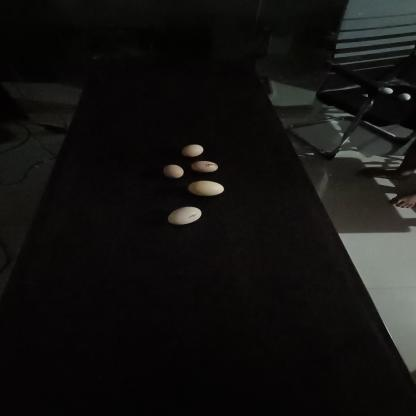egg: (163, 202, 204, 225), (186, 180, 228, 199), (159, 160, 188, 180), (177, 140, 209, 158), (195, 158, 220, 174)
